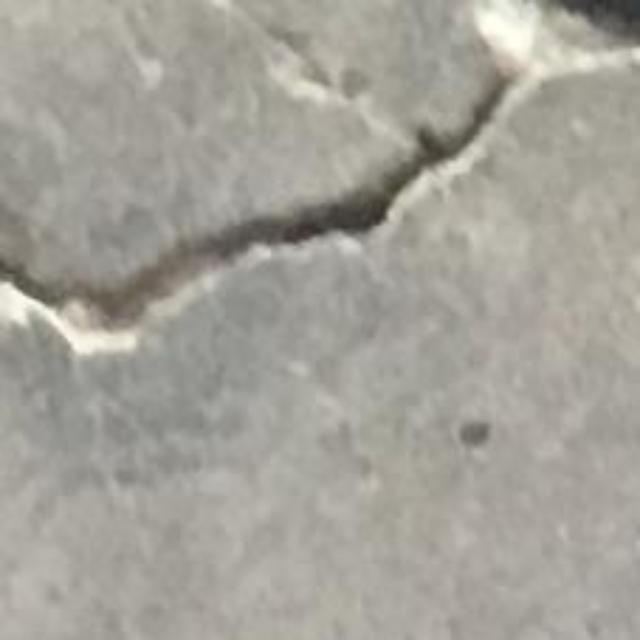crack: (0, 0, 639, 352)
